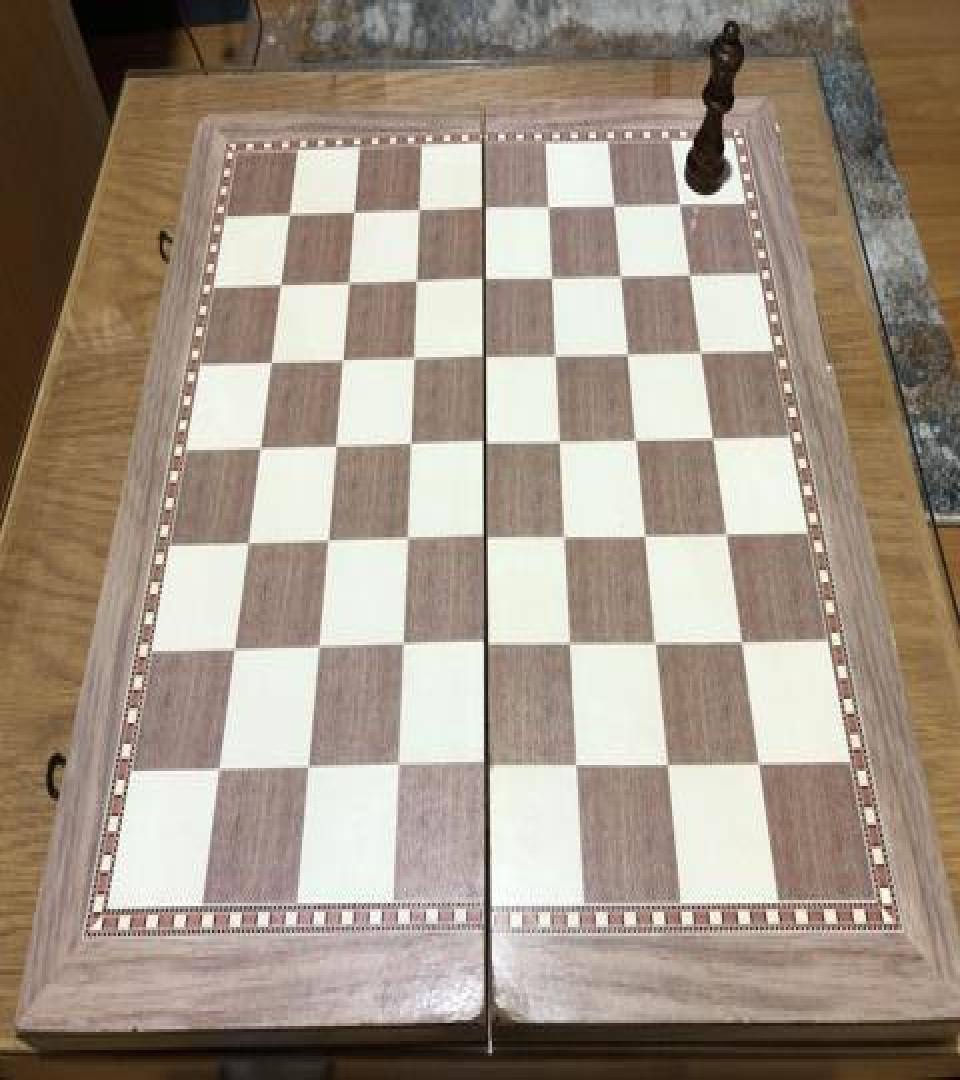xcorner: (714, 520, 738, 557), (222, 637, 246, 674), (746, 748, 770, 785), (296, 754, 320, 791), (667, 190, 691, 226), (601, 194, 625, 230), (535, 195, 559, 231), (470, 198, 494, 234), (405, 201, 429, 237), (341, 202, 365, 238), (677, 261, 701, 297), (608, 264, 632, 300), (539, 266, 563, 302), (471, 268, 495, 304), (403, 270, 427, 306), (335, 273, 359, 309), (268, 274, 292, 310), (688, 339, 712, 375), (615, 340, 639, 376), (471, 345, 495, 381), (400, 348, 424, 384), (329, 350, 353, 386), (258, 352, 282, 388), (700, 424, 724, 460), (624, 426, 648, 462), (547, 429, 571, 465), (397, 434, 421, 470), (322, 435, 346, 471), (248, 436, 272, 472), (633, 522, 657, 558), (552, 524, 576, 560), (472, 526, 496, 562), (393, 528, 417, 564), (314, 530, 338, 566), (236, 531, 260, 567), (729, 627, 753, 663), (643, 628, 667, 664), (558, 630, 582, 666), (473, 633, 497, 669), (389, 634, 413, 670), (305, 636, 329, 672), (655, 750, 679, 786), (564, 752, 588, 788), (474, 753, 498, 789), (385, 753, 409, 789), (208, 756, 232, 792), (277, 206, 301, 241), (543, 344, 567, 379), (472, 431, 496, 466)
